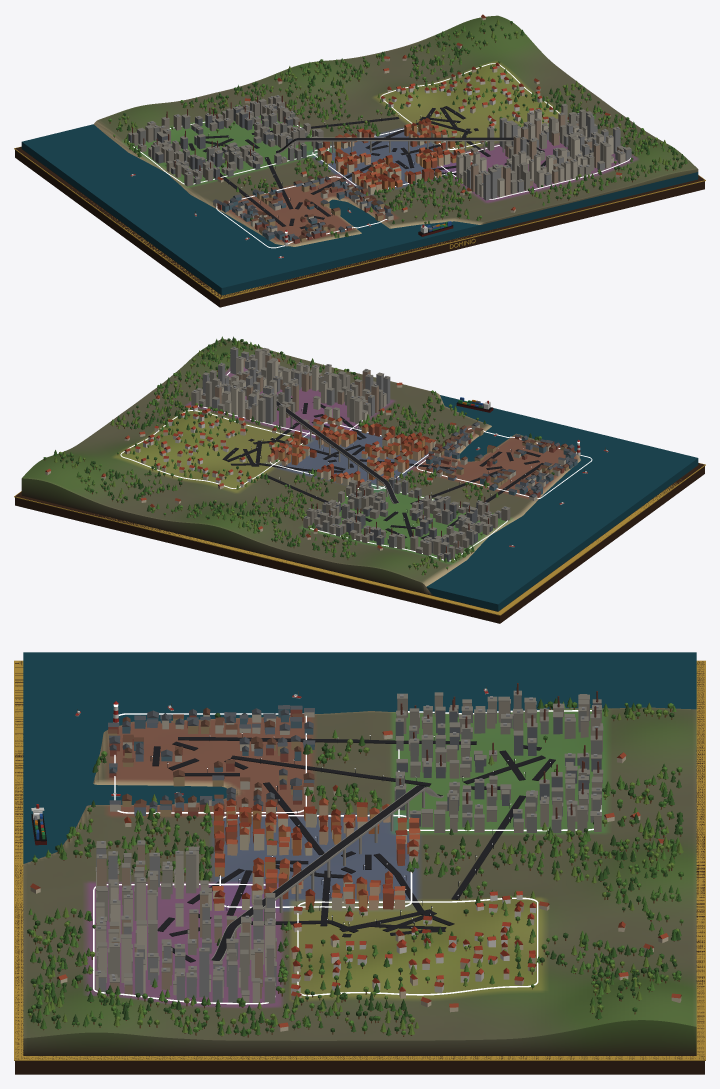
Rendered from citta.glb.
The picture shows the model from 3 angles, top to bottom: view 1: azimuth 30°, elevation 25°; view 2: azimuth 150°, elevation 25°; view 3: azimuth 270°, elevation 25°; orthographic projection. The views are drawn at different scales.
Visible parts, largest first — view 1: Citta, Mare; view 2: Citta, Mare; view 3: Citta, Mare.
Part boxes in pixels (box(x1,y1,x2,y2)): Citta: box(14, 14, 705, 307); Mare: box(21, 124, 698, 295); Citta: box(14, 336, 705, 623); Mare: box(426, 395, 698, 611); Citta: box(14, 660, 705, 1074); Mare: box(23, 652, 696, 863).
Size of the model in its own units: 44.9 by 4.17 by 32.9.
